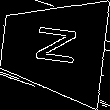N_W: (28, 25, 79, 72)
